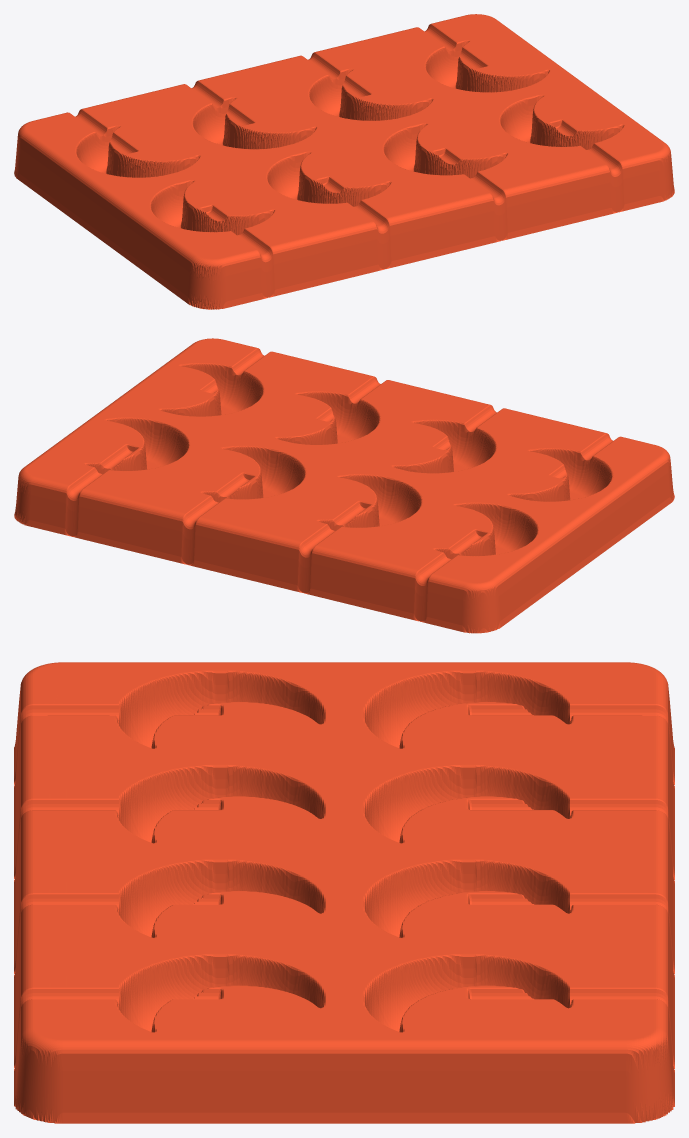
File: mold.glb
3 views of the same model, one above another, from view 1: azimuth 30°, elevation 25°; view 2: azimuth 150°, elevation 25°; view 3: azimuth 270°, elevation 25° (orthographic). The views are drawn at different scales.
Visible parts, largest first — view 1: geometry_0; view 2: geometry_0; view 3: geometry_0.
Boxes of the visible parts, x1,y1,x2,y2 form: geometry_0: (14, 14, 674, 309); geometry_0: (14, 338, 674, 633); geometry_0: (14, 662, 674, 1123).
Size of the model in its own units: 0.1728 by 0.0155 by 0.1229.
